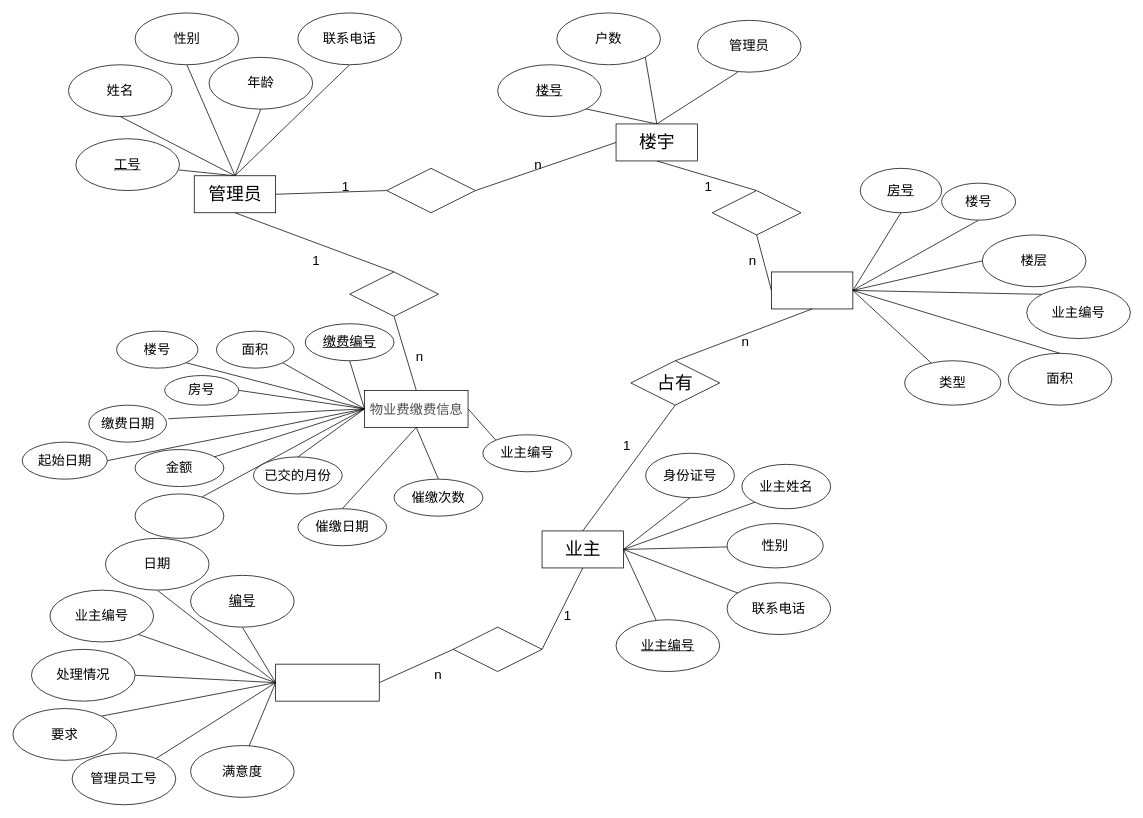
Image size: 1143x818. Some labels were removed from this diagram. The centre of each missing label's shape, as x and y in pixels:
"包括" goes at point (756, 212).
"房屋" goes at point (812, 290).
"收取" goes at point (393, 293).
"物业管理情况" goes at point (327, 682).
"登记" goes at point (497, 649).
"管理" goes at point (430, 190).
"缴费标准" goes at point (179, 515).
